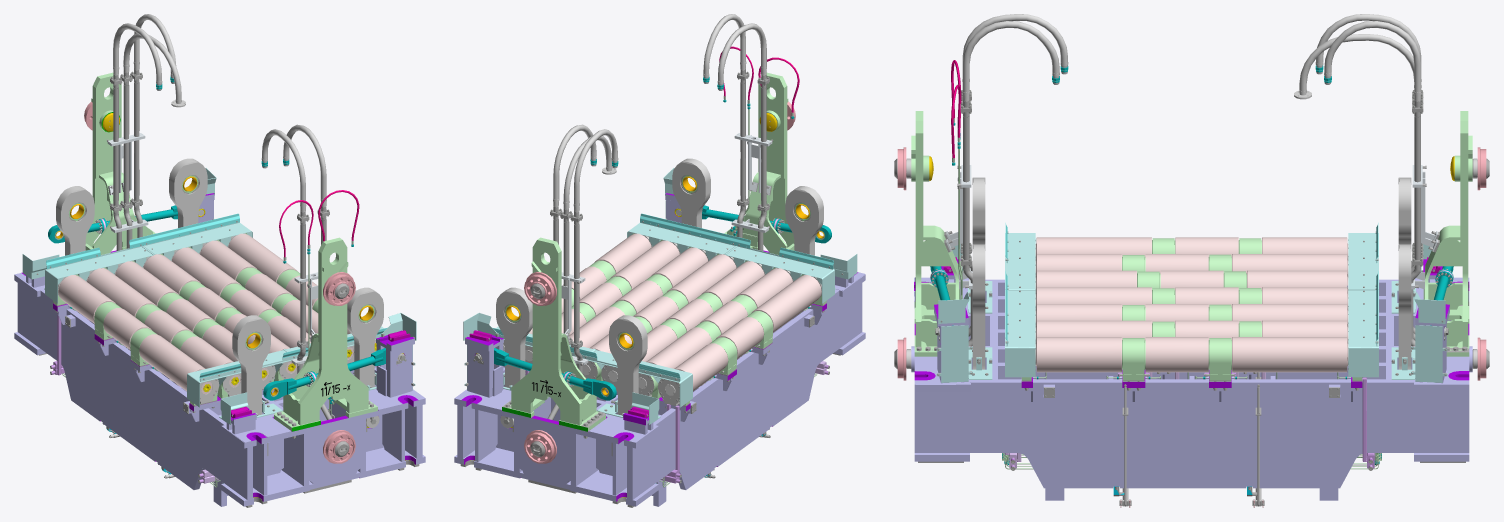
The model's file is SEGMENT_11_15_FIXED_SIDE_FRAME.glb.
3 views of the same model, side by side, from view 1: azimuth 30°, elevation 25°; view 2: azimuth 150°, elevation 25°; view 3: azimuth 270°, elevation 25° (orthographic). The views are drawn at different scales.
Visible parts, largest first — view 1: Model; view 2: Model; view 3: Model.
Part boxes in pixels (<box>): Model: <box>14,14,425,507</box>; Model: <box>454,14,865,507</box>; Model: <box>894,14,1489,507</box>.
Size of what is drawn, in the model's own units: 2.47 by 4.48 by 5.37.
